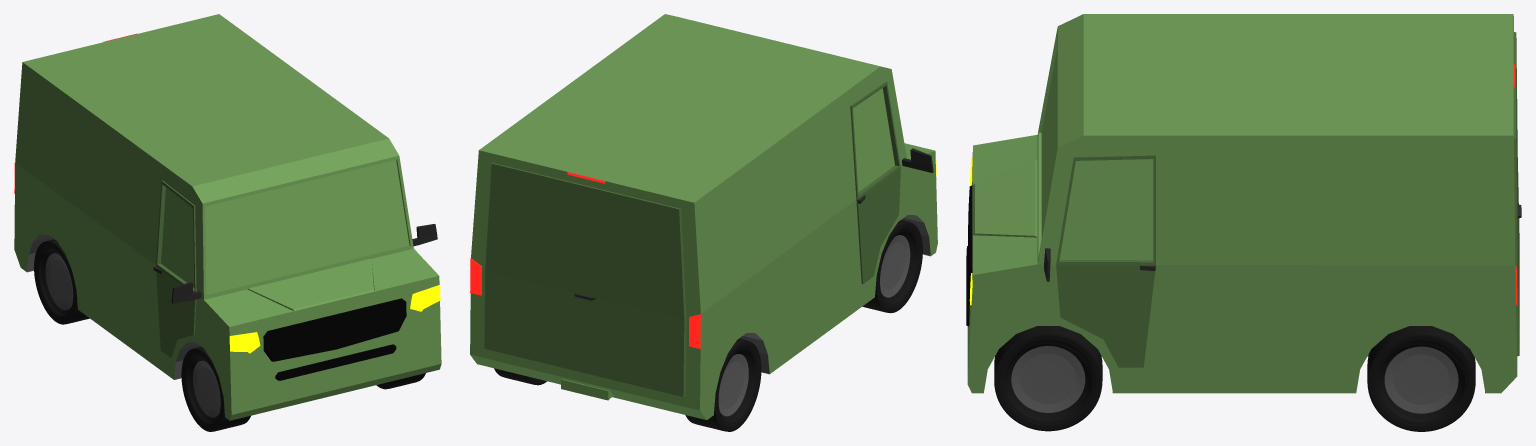
3 views of the same model, side by side, from view 1: azimuth 30°, elevation 25°; view 2: azimuth 150°, elevation 25°; view 3: azimuth 270°, elevation 25° (orthographic). The views are drawn at different scales.
Parts seen in each view (by area): view 1: TrafficVan_Body_3, TrafficVan_Body_Tire_FR_7, TrafficVan_Body_Tire_BR_11; view 2: TrafficVan_Body_3, TrafficVan_Body_Tire_BR_11, TrafficVan_Body_Tire_FR_7; view 3: TrafficVan_Body_3, TrafficVan_Body_Tire_BL_9, TrafficVan_Body_Tire_FL_5.
Part boxes in pixels (bbox=[...]): TrafficVan_Body_3: bbox=[14, 14, 441, 420]; TrafficVan_Body_Tire_FR_7: bbox=[181, 346, 250, 431]; TrafficVan_Body_Tire_BR_11: bbox=[34, 239, 89, 324]; TrafficVan_Body_3: bbox=[470, 14, 937, 419]; TrafficVan_Body_Tire_BR_11: bbox=[685, 338, 761, 431]; TrafficVan_Body_Tire_FR_7: bbox=[862, 220, 922, 313]; TrafficVan_Body_3: bbox=[966, 14, 1521, 393]; TrafficVan_Body_Tire_BL_9: bbox=[1367, 326, 1475, 431]; TrafficVan_Body_Tire_FL_5: bbox=[994, 326, 1102, 431].
Size of what is drawn, in the model's own units: 2.48 by 2.07 by 3.55.
